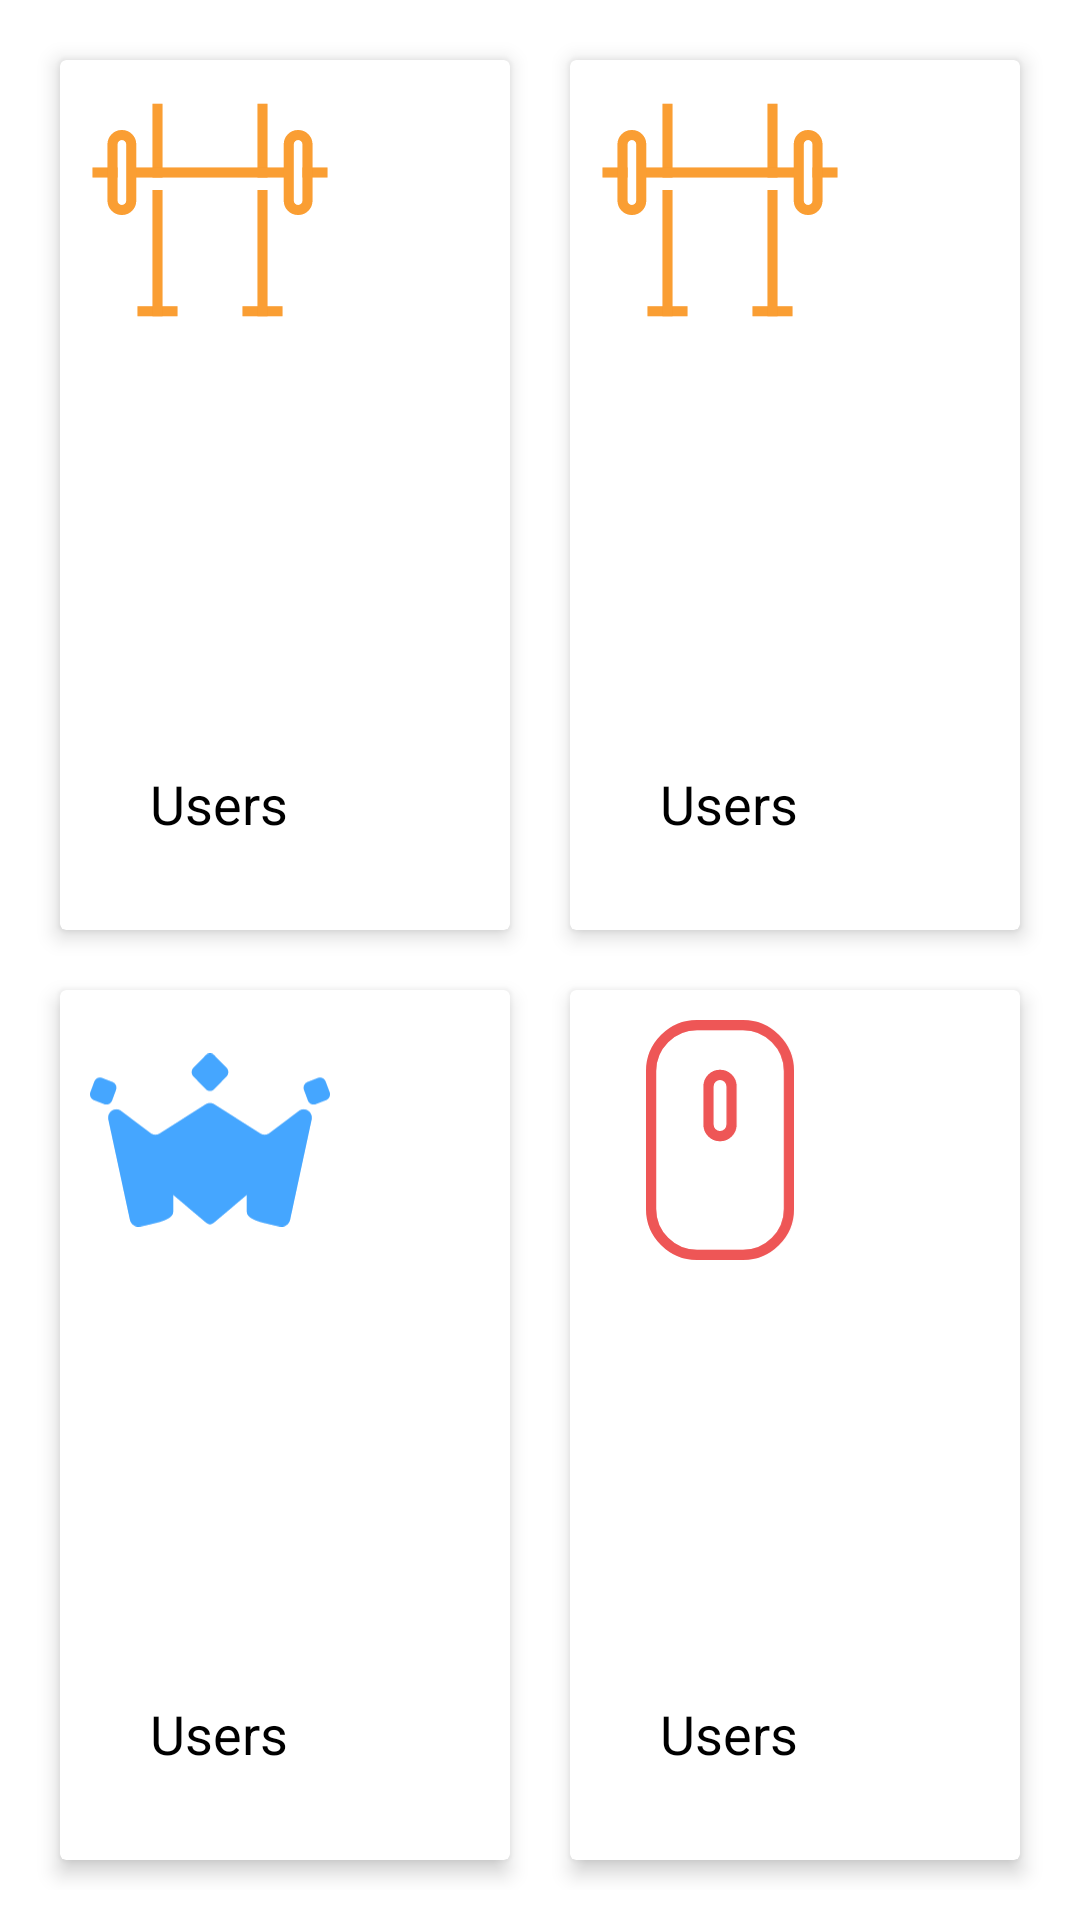

Icons on this 1080 x 1920 Android screen, each with the point to tap as (x=x, y=y):
power rack: (x=210, y=210), (x=720, y=210)
